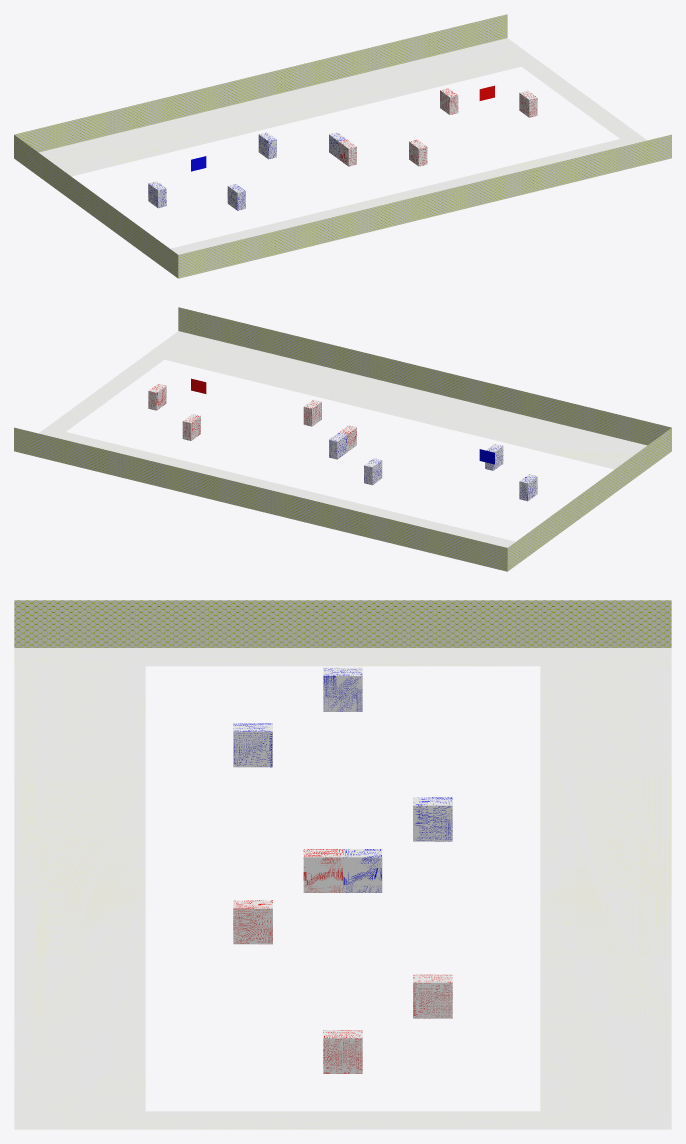
File: 26Mx15M_Yukigassen.glb
3 views of the same model, one above another, from view 1: azimuth 30°, elevation 25°; view 2: azimuth 150°, elevation 25°; view 3: azimuth 270°, elevation 25° (orthographic). The views are drawn at different scales.
Visible parts, largest first — view 1: SketchUp.018, SketchUp.014, SketchUp.002, SketchUp, SketchUp.001, SketchUp.003, SketchUp.004, SketchUp.005, SketchUp.006; view 2: SketchUp.018, SketchUp.014, SketchUp.002, SketchUp, SketchUp.003, SketchUp.005, SketchUp.007, SketchUp.004; view 3: SketchUp.014, SketchUp.018, SketchUp.002, SketchUp.003, SketchUp.004, SketchUp.005, SketchUp.006, SketchUp, SketchUp.001, SketchUp.007.
Boxes of the visible parts, box(x1,y1,x2,y2) form: SketchUp.018: box(14, 14, 671, 278); SketchUp.014: box(38, 38, 647, 254); SketchUp.002: box(148, 181, 166, 208); SketchUp: box(519, 90, 537, 117); SketchUp.001: box(338, 139, 356, 166); SketchUp.003: box(440, 88, 458, 114); SketchUp.004: box(409, 139, 427, 166); SketchUp.005: box(258, 132, 276, 159); SketchUp.006: box(227, 184, 245, 210); SketchUp.018: box(14, 307, 671, 571); SketchUp.014: box(38, 331, 647, 547); SketchUp.002: box(519, 474, 537, 501); SketchUp: box(148, 383, 166, 410); SketchUp.003: box(182, 414, 200, 440); SketchUp.005: box(364, 458, 382, 485); SketchUp.007: box(329, 432, 347, 459); SketchUp.004: box(303, 399, 321, 426); SketchUp.014: box(14, 648, 671, 1129); SketchUp.018: box(14, 600, 671, 647); SketchUp.002: box(323, 667, 362, 711); SketchUp.003: box(413, 974, 452, 1018); SketchUp.004: box(233, 900, 272, 944); SketchUp.005: box(413, 797, 452, 841); SketchUp.006: box(233, 723, 272, 767); SketchUp: box(323, 1030, 362, 1073); SketchUp.001: box(303, 849, 342, 892); SketchUp.007: box(343, 849, 382, 892).
Size of the model in its own units: 26 by 1.8 by 15.
Materials: 6 (1 with a texture image).
